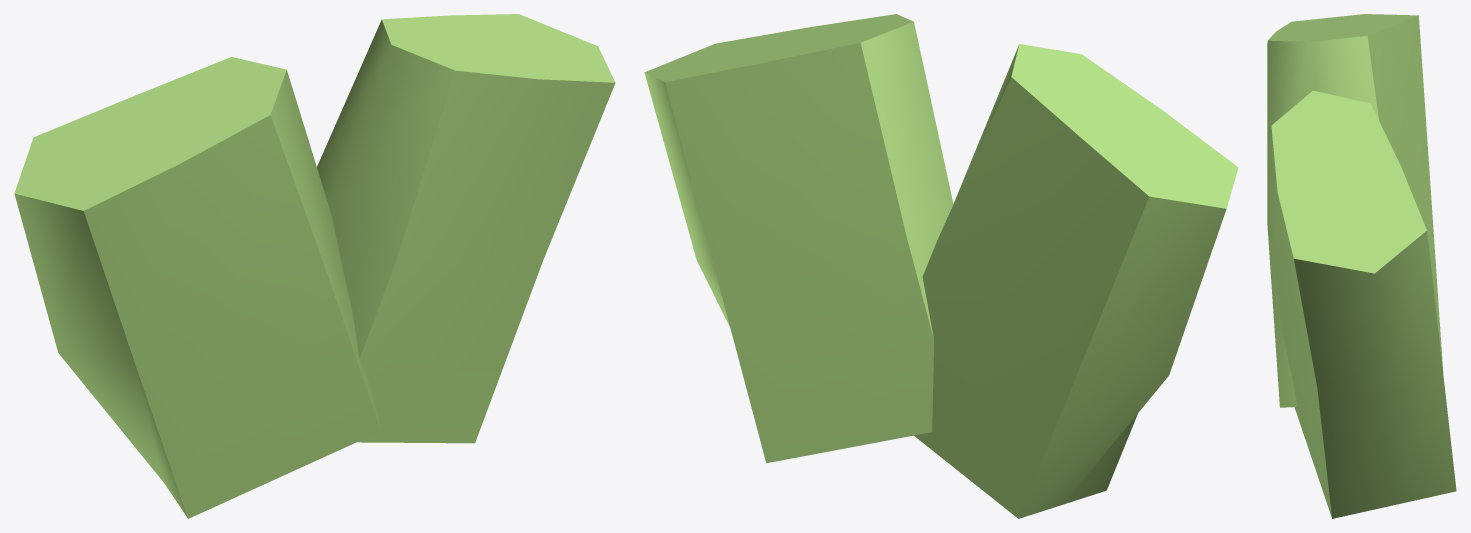
Rendered from alien_eyes.fbx.
The picture shows the model from 3 angles, left to right: view 1: azimuth 30°, elevation 25°; view 2: azimuth 150°, elevation 25°; view 3: azimuth 270°, elevation 25°; orthographic projection. The views are drawn at different scales.
Parts seen in each view (by area): view 1: pCube3; view 2: pCube3; view 3: pCube3.
Boxes of the visible parts, left/top/right/bottom form: pCube3: left=14, top=14, right=615, bottom=518; pCube3: left=644, top=14, right=1238, bottom=518; pCube3: left=1267, top=14, right=1456, bottom=518.
Bounding box in the file's own units: 1.5 × 1.05 × 0.4615.
